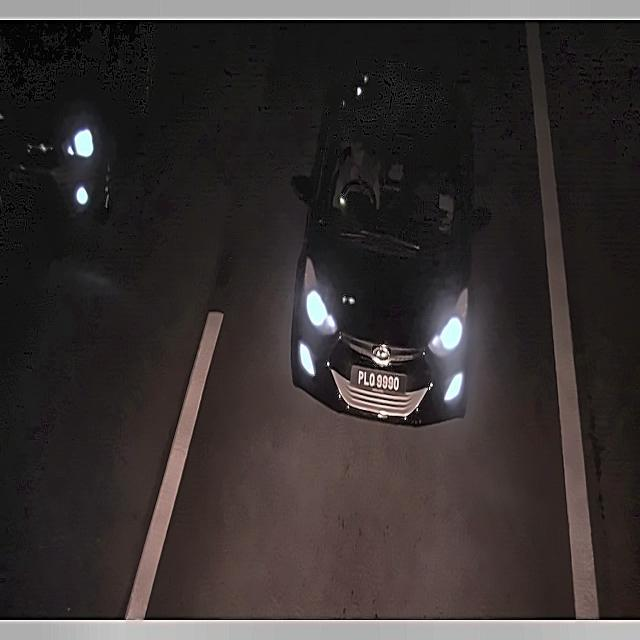car: (344, 359, 411, 402), (3, 165, 51, 197)
